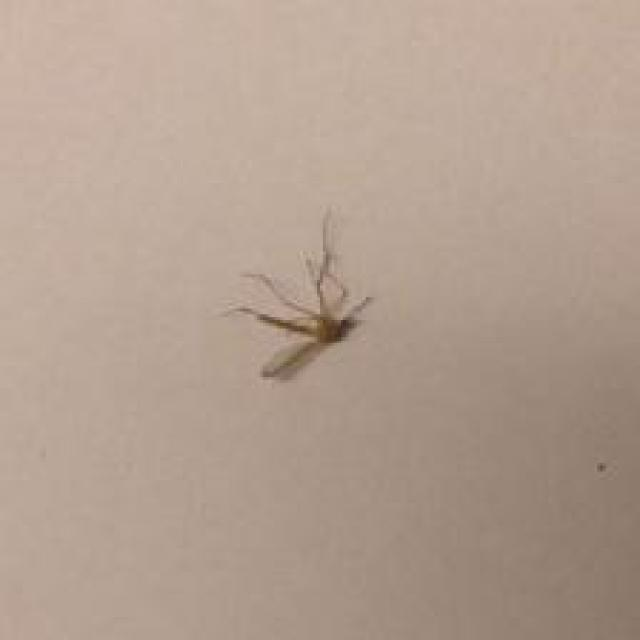Culex: (223, 206, 374, 380)
